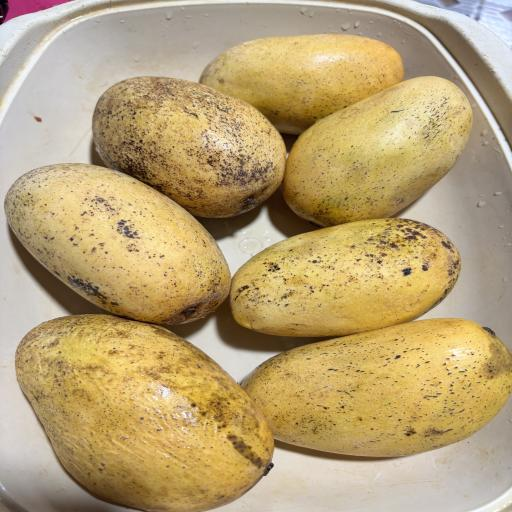fruit: (4, 293, 280, 512), (240, 296, 512, 480), (7, 151, 233, 329), (215, 199, 473, 344), (281, 61, 473, 224), (91, 74, 282, 220), (201, 29, 406, 130)
